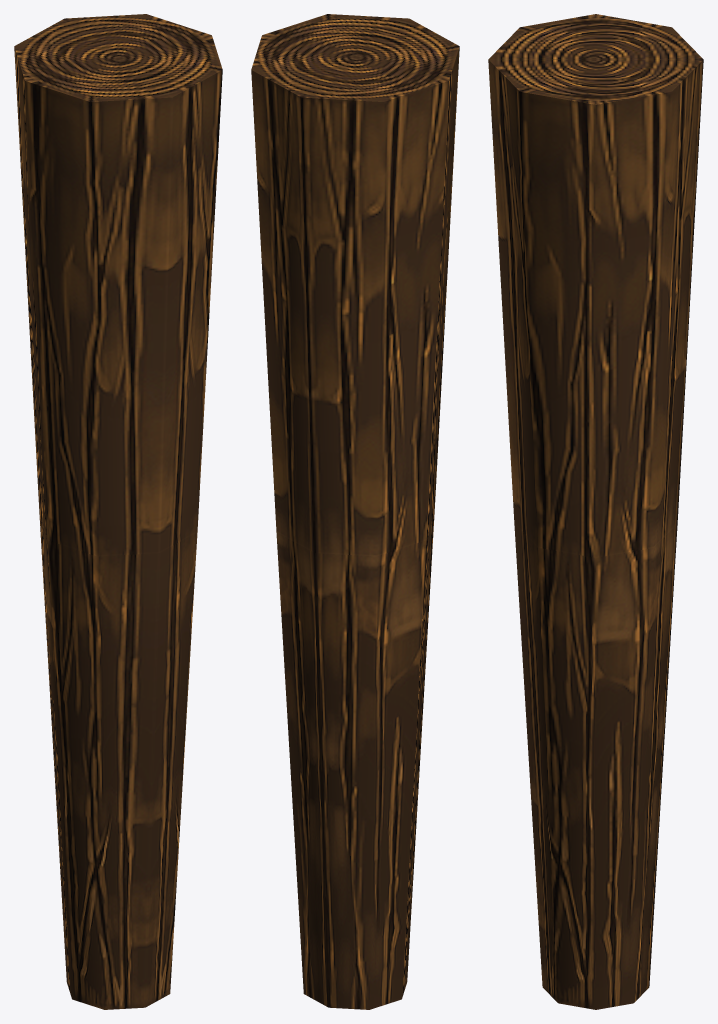
File: etc_wooden_stick_01.FBX
3 renders of one model, left to right at view 1: azimuth 30°, elevation 25°; view 2: azimuth 150°, elevation 25°; view 3: azimuth 270°, elevation 25°, orthographic.
Size of the model in its own units: 0.00352 by 0.0167 by 0.00352.
